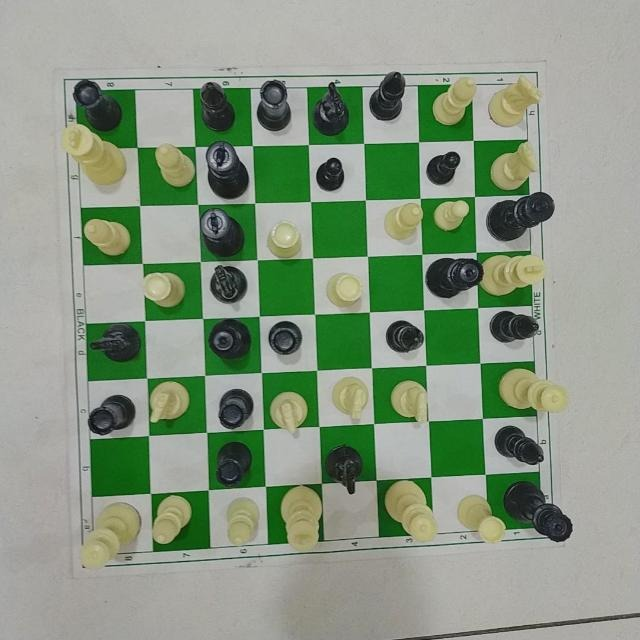black-bishop: (494, 426, 548, 468), (198, 78, 236, 133), (369, 72, 407, 122), (490, 309, 540, 342), (384, 318, 423, 354)
black-king: (487, 192, 557, 246), (205, 139, 249, 201), (197, 206, 246, 258)
black-knight: (324, 445, 370, 495), (91, 323, 143, 362), (313, 83, 349, 135), (207, 264, 251, 303)
black-pawn: (426, 149, 459, 185), (314, 158, 345, 192)
black-queen: (503, 483, 574, 544), (426, 256, 478, 298), (207, 318, 255, 362)
black-rook: (72, 78, 122, 133), (253, 79, 293, 131), (89, 395, 137, 435), (216, 441, 254, 487), (267, 319, 306, 354), (219, 387, 253, 426)
white-bishop: (431, 75, 478, 127), (82, 217, 132, 260), (150, 496, 191, 544), (154, 143, 196, 189), (226, 497, 262, 547), (383, 202, 426, 240)
white-king: (59, 122, 125, 186), (482, 254, 546, 298), (281, 486, 323, 550)
white-knight: (487, 73, 539, 125), (490, 143, 536, 191), (389, 378, 432, 426), (330, 375, 371, 423), (146, 380, 192, 422), (268, 389, 308, 434)
white-pawn: (432, 197, 467, 232)
white-queen: (79, 502, 140, 571), (498, 366, 567, 418), (384, 480, 439, 542)
white-rook: (456, 494, 506, 544), (141, 270, 184, 310), (266, 219, 302, 259), (327, 271, 366, 306)
